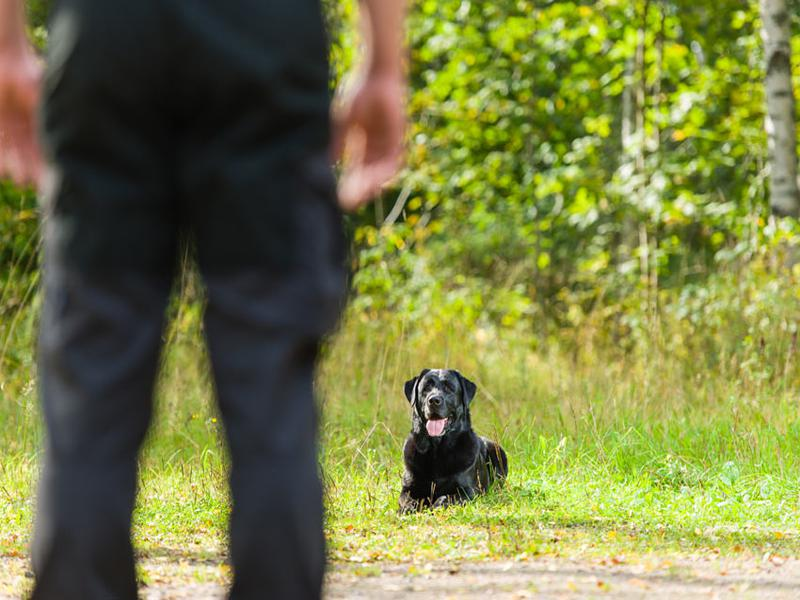dog_down: (394, 365, 508, 516)
